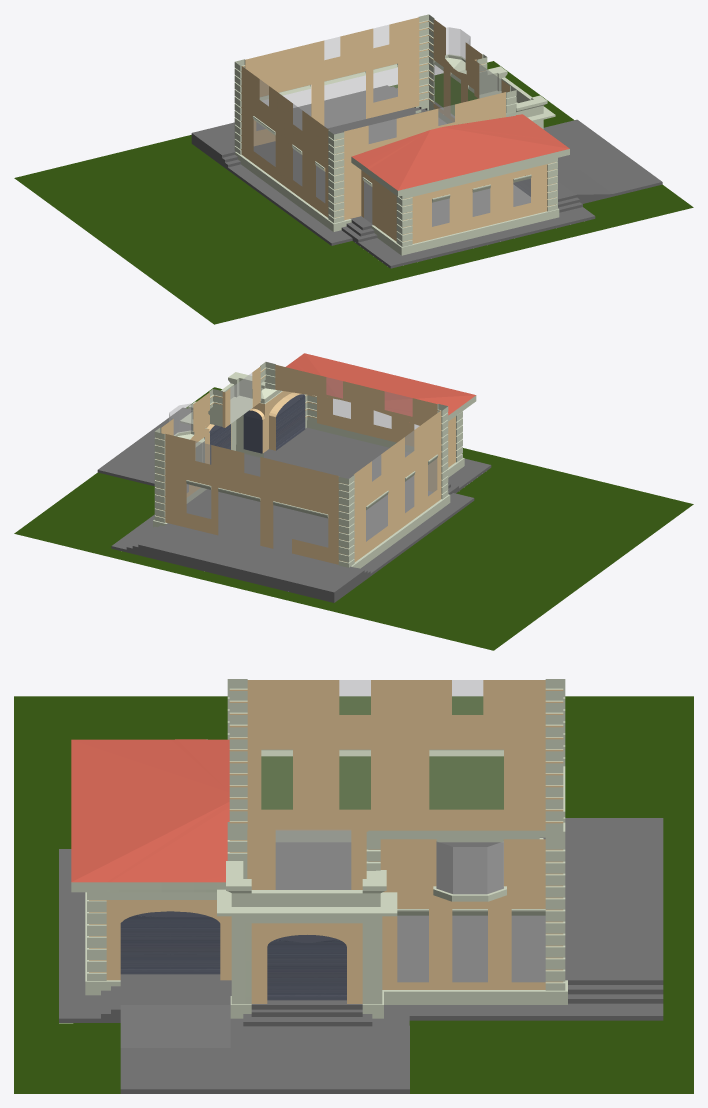
File: casaStolnicu_2ND-FLOOR.glb
3 renders of one model, top to bottom at view 1: azimuth 30°, elevation 25°; view 2: azimuth 150°, elevation 25°; view 3: azimuth 270°, elevation 25°, orthographic. The views are drawn at different scales.
Visible parts, largest first — view 1: Plane; view 2: Plane; view 3: Plane.
Boxes of the visible parts, x1,y1,x2,y2 form: Plane: (14,14,693,324); Plane: (14,353,693,650); Plane: (14,679,693,1093).
Bounding box in the file's own units: 28.4 × 5.63 × 20.53.
Materials: 7 (1 with a texture image).
